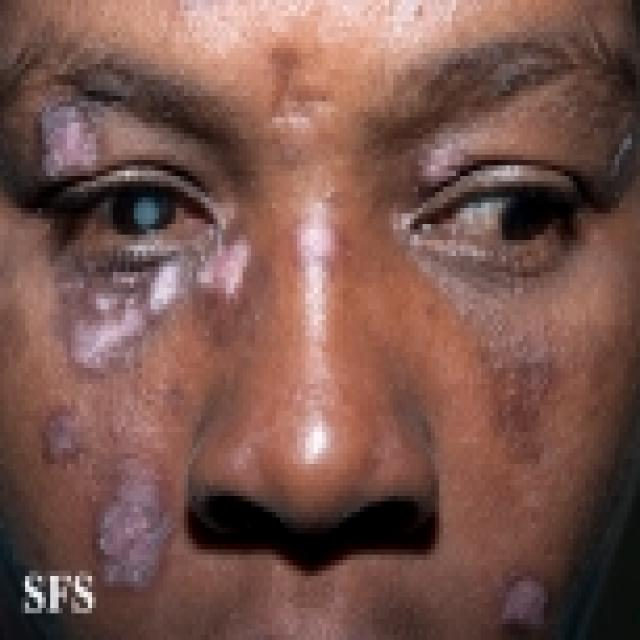lupus: (19, 88, 255, 384), (30, 402, 202, 604), (282, 88, 385, 289), (498, 554, 548, 638)
